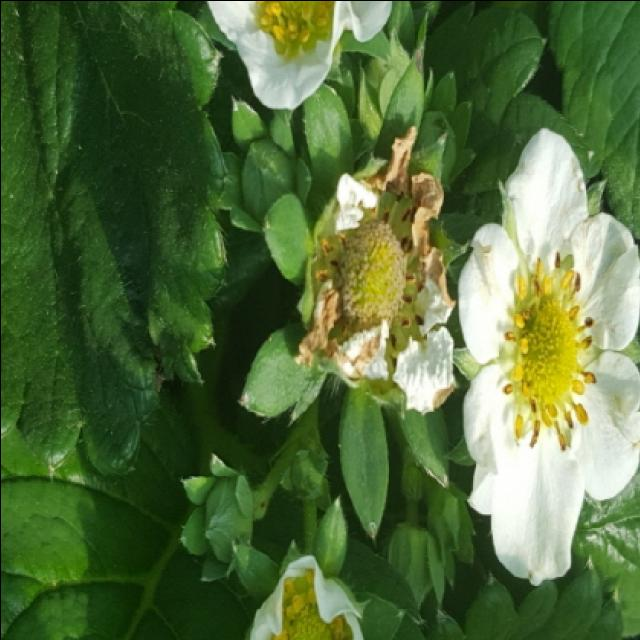Blossom Blight: (312, 179, 429, 373), (498, 247, 599, 453)
